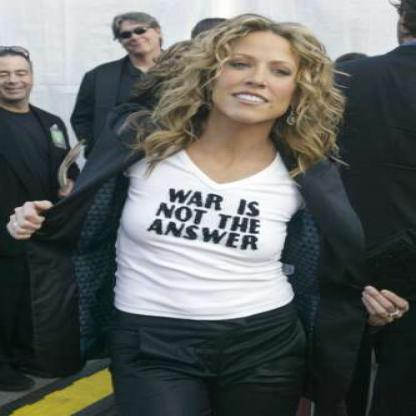face: (210, 24, 308, 128), (115, 14, 158, 55), (1, 52, 36, 101)
